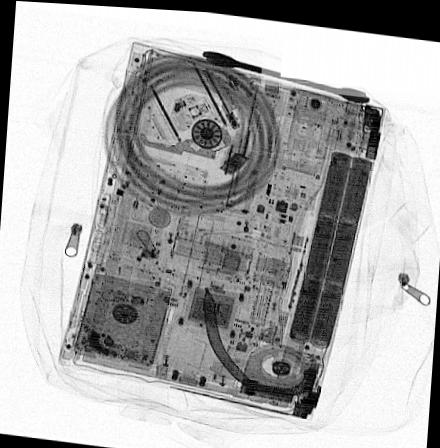Wrench: (199, 46, 367, 98)
